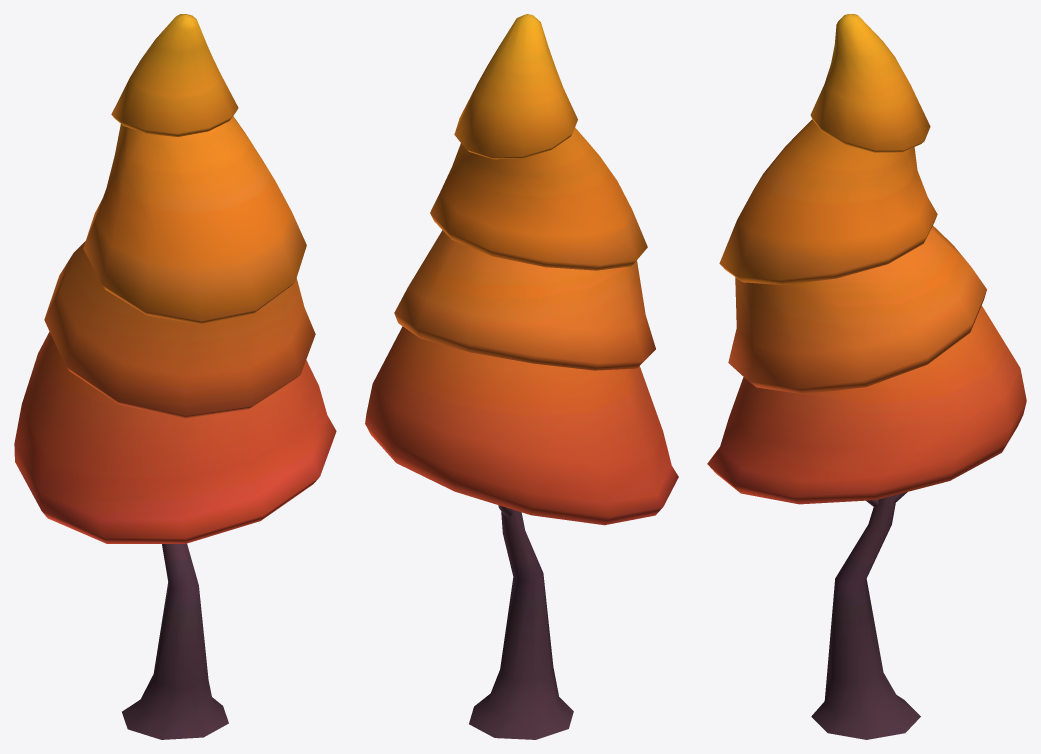
File: Tree_9.fbx
The picture shows the model from 3 angles, left to right: view 1: azimuth 30°, elevation 25°; view 2: azimuth 150°, elevation 25°; view 3: azimuth 270°, elevation 25°; orthographic projection.
Parts seen in each view (by area): view 1: Tree_9; view 2: Tree_9; view 3: Tree_9.
Boxes of the visible parts, box(x1,y1,x2,y2) form: Tree_9: box(14, 14, 336, 739); Tree_9: box(365, 14, 678, 739); Tree_9: box(707, 14, 1026, 739).
Bounding box in the file's own units: 199 × 485 × 200.
